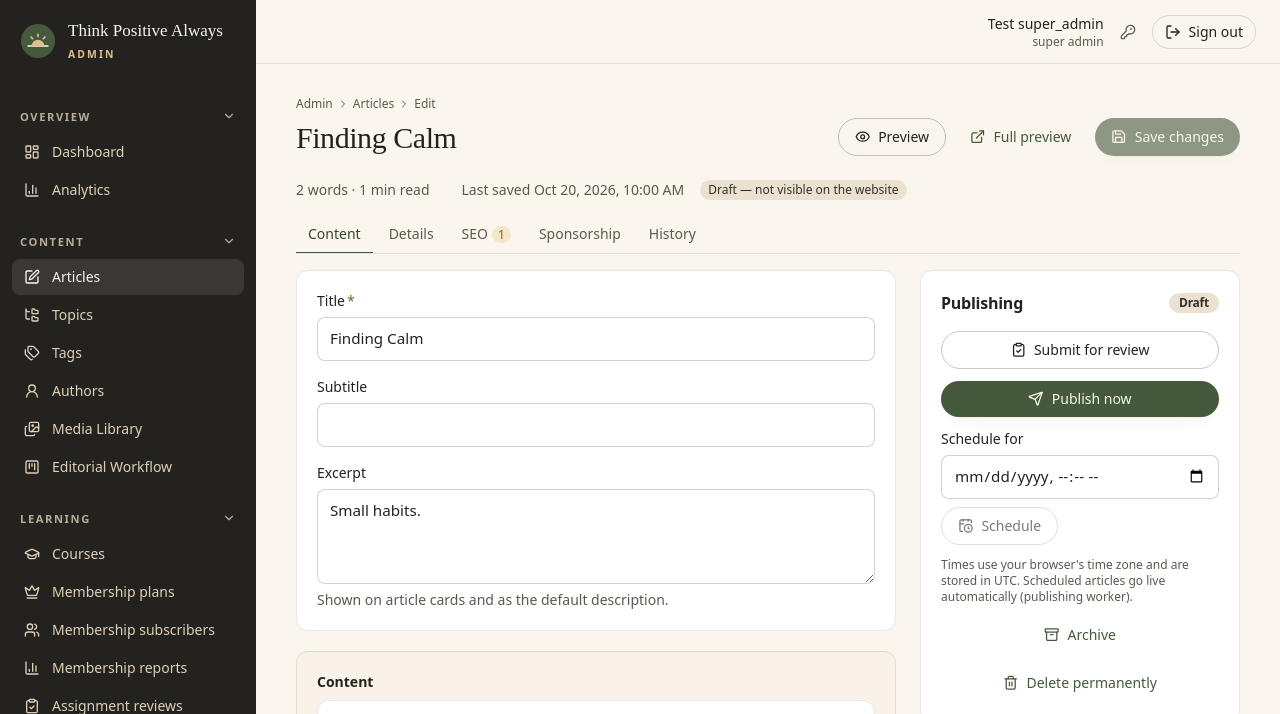
Test case: SEO panel › previews search and social appearance and lists checks
Click the tab "SEO1": (486, 235) x1=450 y1=216 x2=523 y2=254
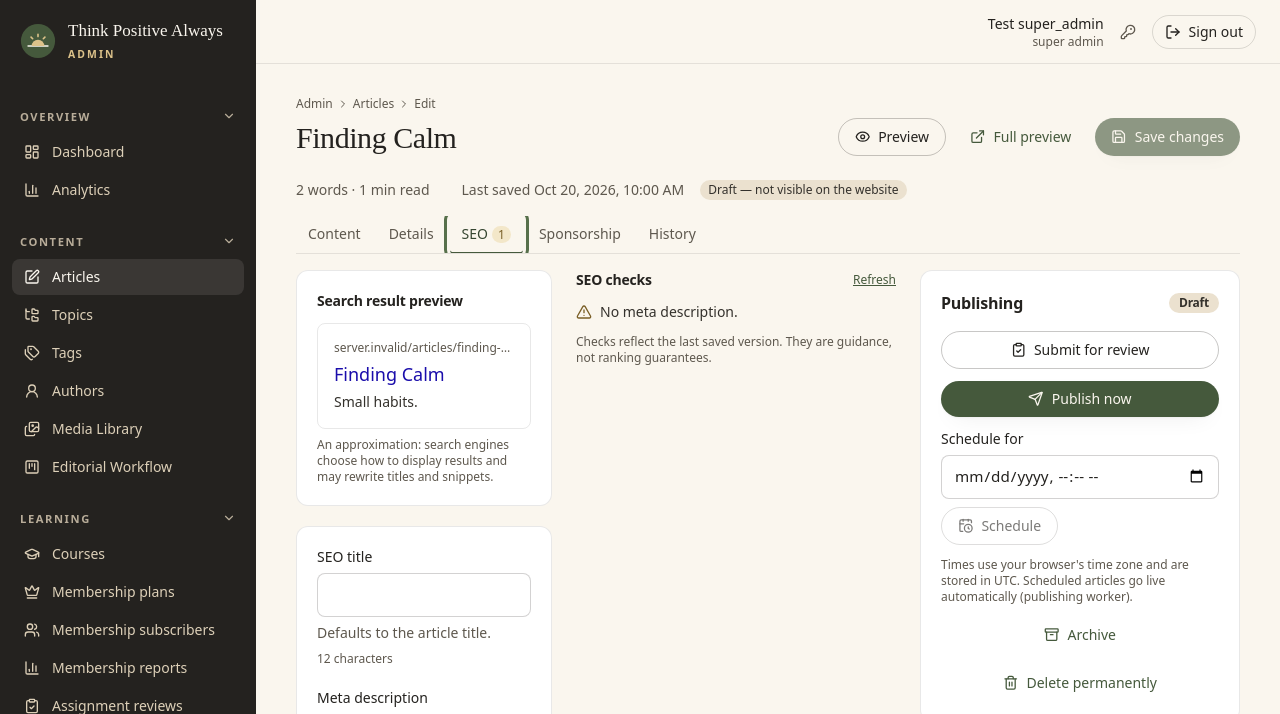
Expected: the text "Finding Calm" is shown, x1=334 y1=362 x2=445 y2=386
In the field labelled "SEO title": (424, 595) x1=317 y1=573 x2=531 y2=617, type "Calm in busy weeks"
(page scrolled)
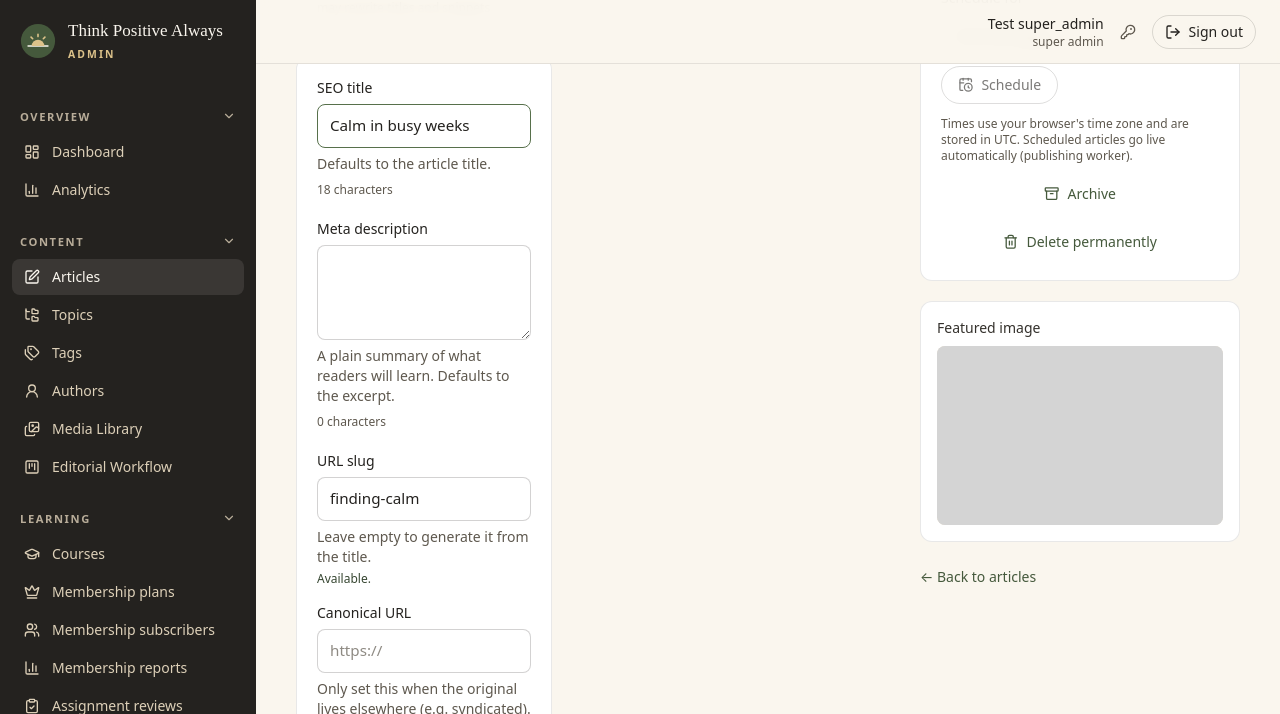
Replace the text in the field labelled "URL slug" with "taken": (424, 499) x1=317 y1=477 x2=531 y2=521
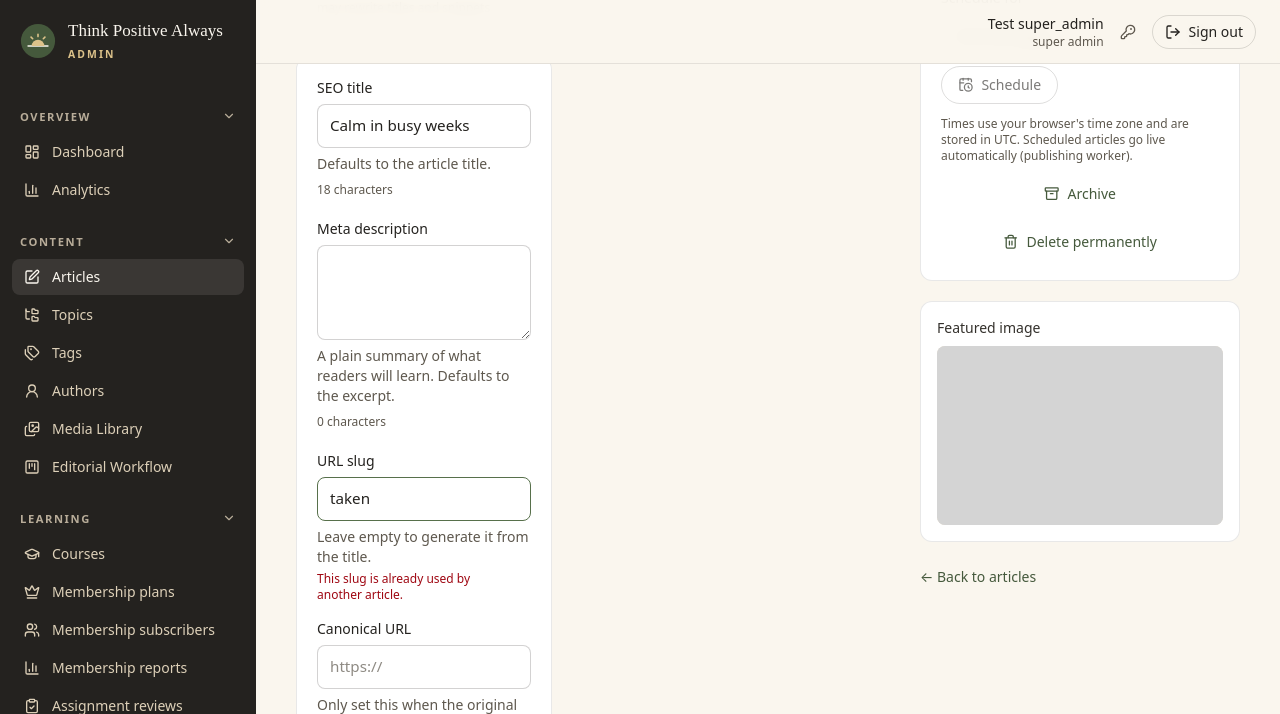
Expected: the text "This slug is already used by another article." is shown, x1=317 y1=570 x2=470 y2=603
